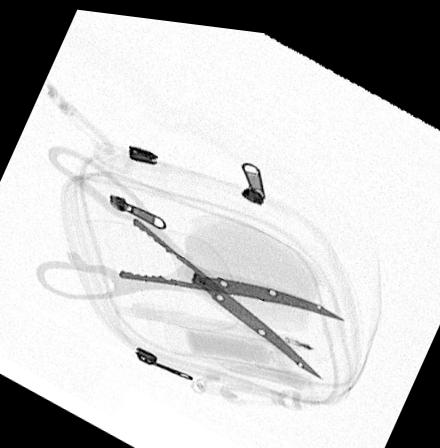Scissors: (28, 136, 353, 376)
